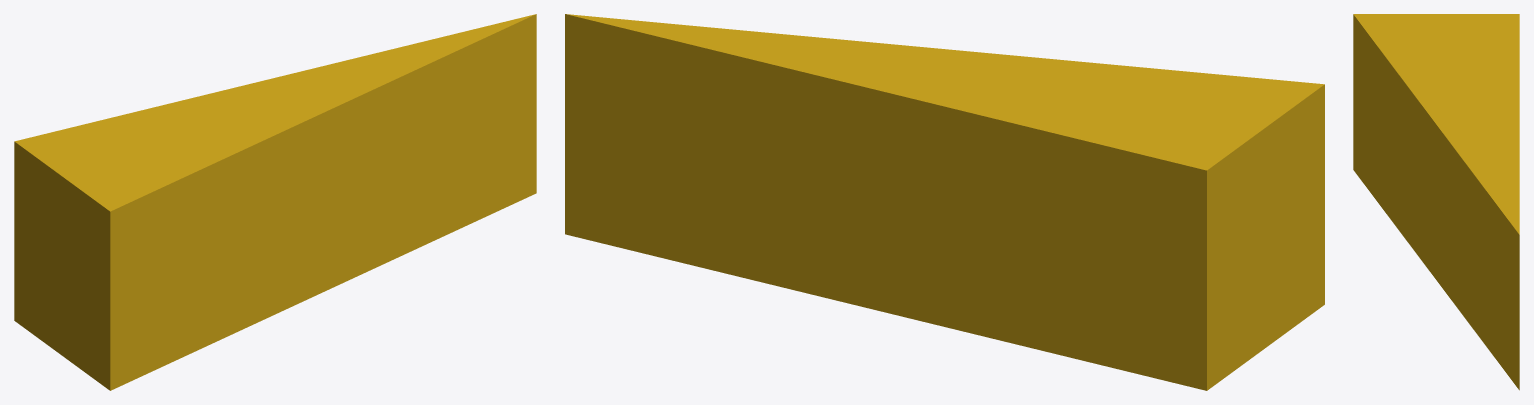
The model's file is slope.glb.
3 renders of one model, left to right at view 1: azimuth 30°, elevation 25°; view 2: azimuth 150°, elevation 25°; view 3: azimuth 270°, elevation 25°, orthographic. The views are drawn at different scales.
Parts seen in each view (by area): view 1: Object_2; view 2: Object_2; view 3: Object_2.
Boxes of the visible parts, x1,y1,x2,y2 form: Object_2: [14, 14, 536, 390]; Object_2: [565, 14, 1324, 390]; Object_2: [1353, 14, 1519, 390].
Size of the model in its own units: 22 by 7.22 by 7.
